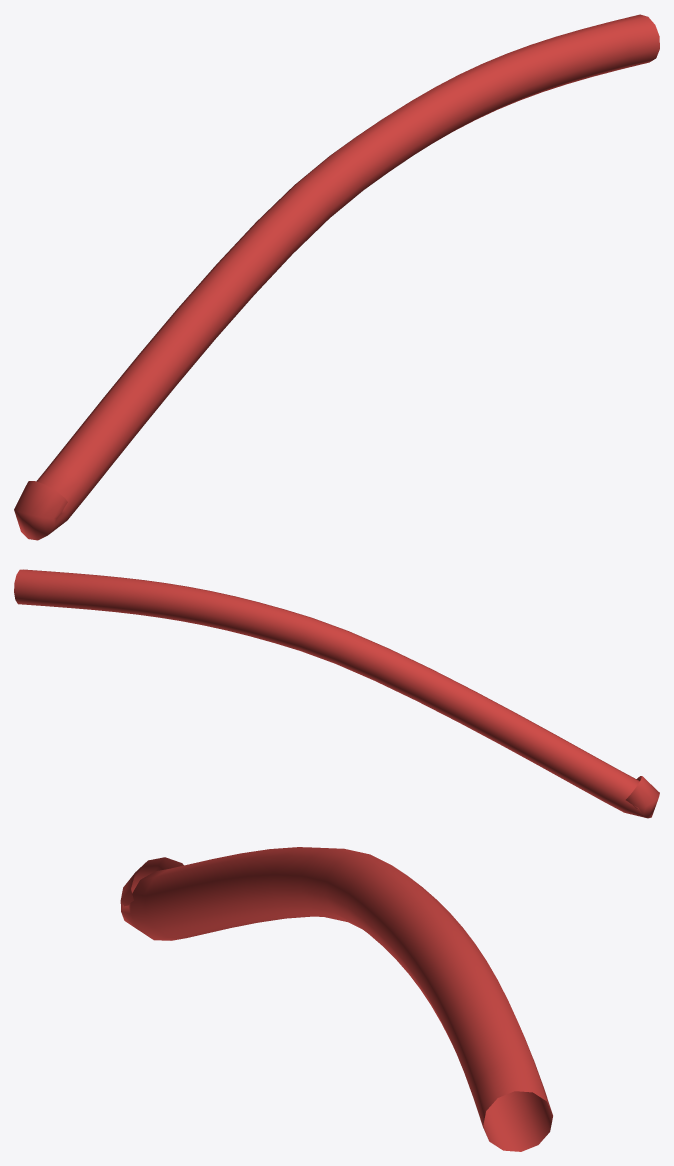
The picture shows the model from 3 angles, top to bottom: view 1: azimuth 30°, elevation 25°; view 2: azimuth 150°, elevation 25°; view 3: azimuth 270°, elevation 25°; orthographic projection. The views are drawn at different scales.
Parts seen in each view (by area): view 1: 右侧腕背侧动脉网; view 2: 右侧腕背侧动脉网; view 3: 右侧腕背侧动脉网.
Part boxes in pixels (x1,y1,x2,y2): 右侧腕背侧动脉网: (14, 14, 659, 540); 右侧腕背侧动脉网: (14, 569, 659, 818); 右侧腕背侧动脉网: (120, 847, 552, 1151).
Size of the model in its own units: 0.0367 by 0.012 by 0.0125.
